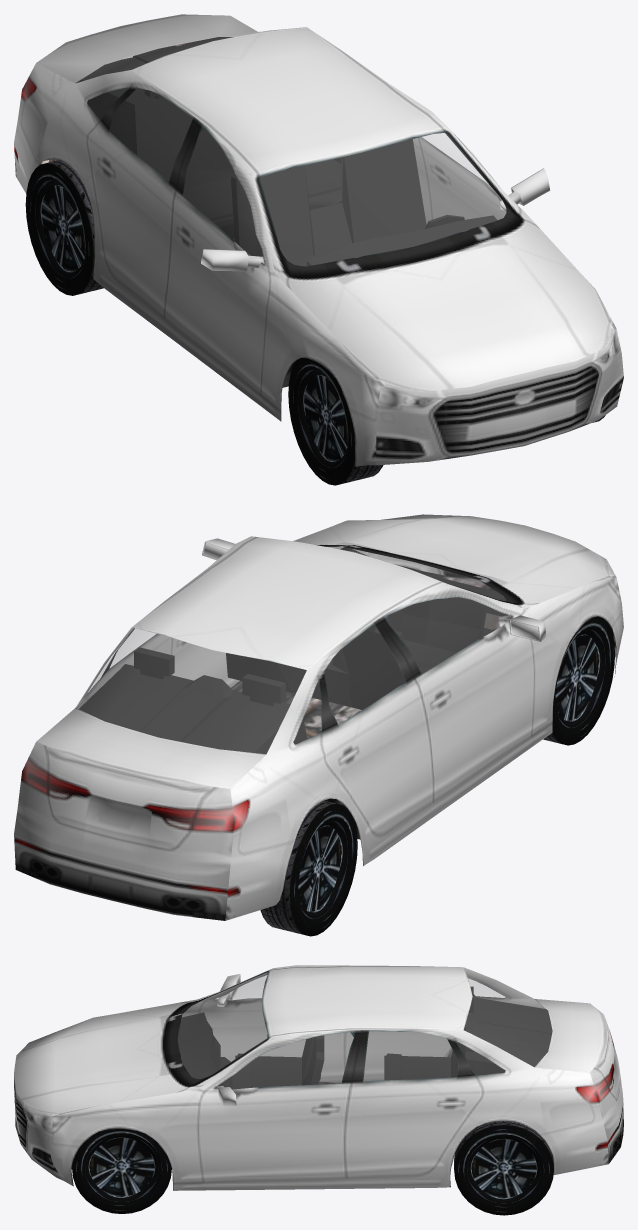
Rendered from low_poly_white_car.glb.
The picture shows the model from 3 angles, top to bottom: view 1: azimuth 30°, elevation 25°; view 2: azimuth 150°, elevation 25°; view 3: azimuth 270°, elevation 25°; orthographic projection. The views are drawn at different scales.
Parts seen in each view (by area): view 1: Cube.007, Cube.005, Cube.008, Cylinder.003, Cylinder.002, Cube.009; view 2: Cube.007, Cube.008, Cube.005, Cylinder.003, Cylinder.002, Cube.006, Cube.009; view 3: Cube.007, Cylinder.003, Cylinder.002, Cube.008, Cube.005, Cube.009.
Part boxes in pixels (left/top/right/bottom): Cube.007: left=14, top=14, right=623, bottom=466; Cube.005: left=230, top=139, right=497, bottom=266; Cube.008: left=77, top=37, right=342, bottom=240; Cylinder.003: left=25, top=160, right=103, bottom=295; Cylinder.002: left=288, top=358, right=605, bottom=485; Cube.009: left=201, top=168, right=550, bottom=271; Cube.007: left=14, top=514, right=623, bottom=920; Cube.008: left=79, top=647, right=309, bottom=754; Cube.005: left=226, top=573, right=507, bottom=709; Cylinder.003: left=260, top=800, right=357, bottom=936; Cylinder.002: left=543, top=616, right=614, bottom=745; Cube.006: left=231, top=547, right=614, bottom=839; Cube.009: left=202, top=538, right=546, bottom=641; Cube.007: left=14, top=965, right=623, bottom=1190; Cylinder.003: left=454, top=1121, right=553, bottom=1215; Cylinder.002: left=72, top=1129, right=171, bottom=1213; Cube.008: left=384, top=986, right=552, bottom=1080; Cube.005: left=177, top=1012, right=324, bottom=1089; Cube.009: left=216, top=974, right=240, bottom=1105.
Size of the model in its own units: 2.61 by 1.72 by 5.49.
8 materials, 4 textured.
